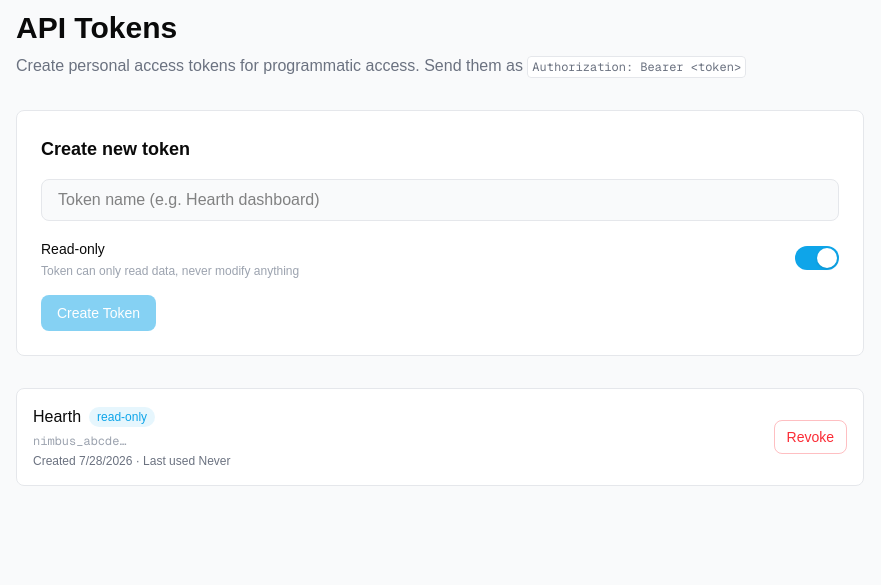
Test: ApiTokensPage › shows an error when revoking fails and keeps the token listed
The image size is (881, 585).
Check: the text "Hearth" is shown, box top-left (33, 405), bottom-right (81, 429)
Click the button "Revoke" at [810, 437], box top-left (774, 420), bottom-right (847, 454)
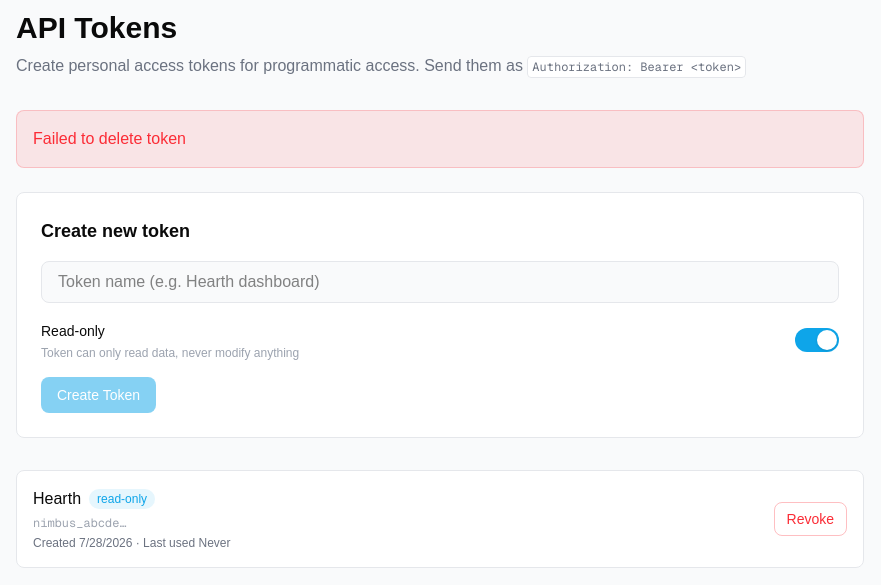
Check: the text "Hearth" is shown, box top-left (33, 487), bottom-right (81, 511)
Check: the text "Failed to delete token" is shown, box top-left (16, 110), bottom-right (864, 168)
